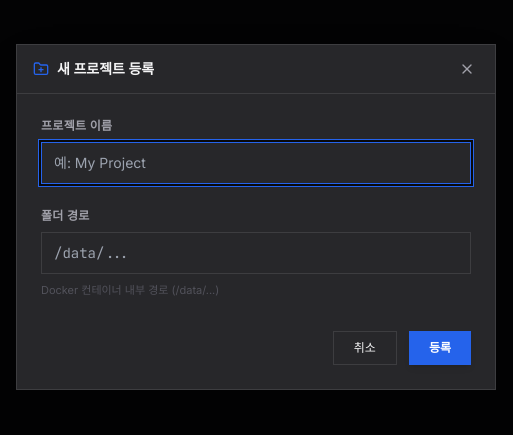
Test: FolderRegisterModal › handles API error
The image size is (513, 435).
Type "Test Project" into the field with placeholder "예: My Project" at (256, 163), box [41,142,471,184]
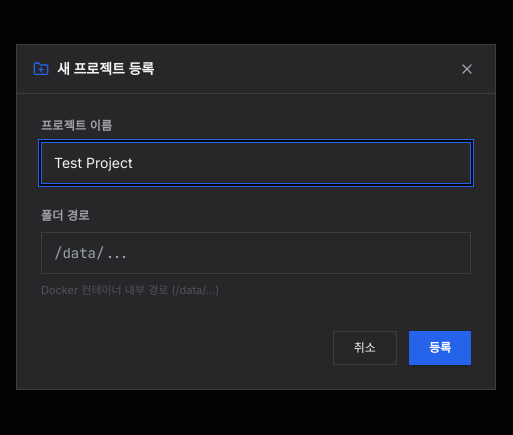
Type "/data/test" into the field with placeholder "/data/..." at (256, 253), box [41,232,471,274]
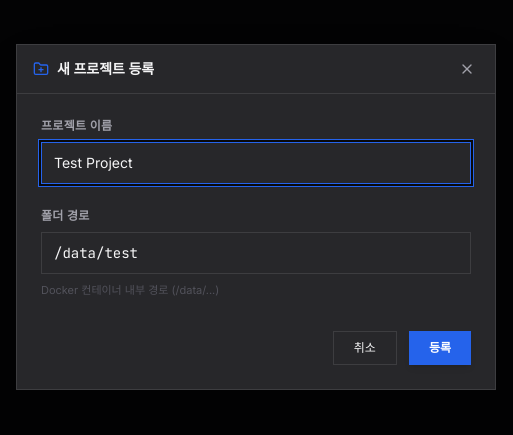
Click the button "등록" at (440, 348), box [409,331,471,365]
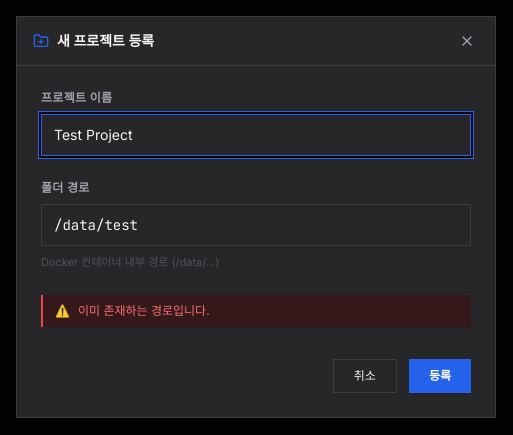
Now the text "이미 존재하는 경로입니다." is shown, box [78,303,210,318]
